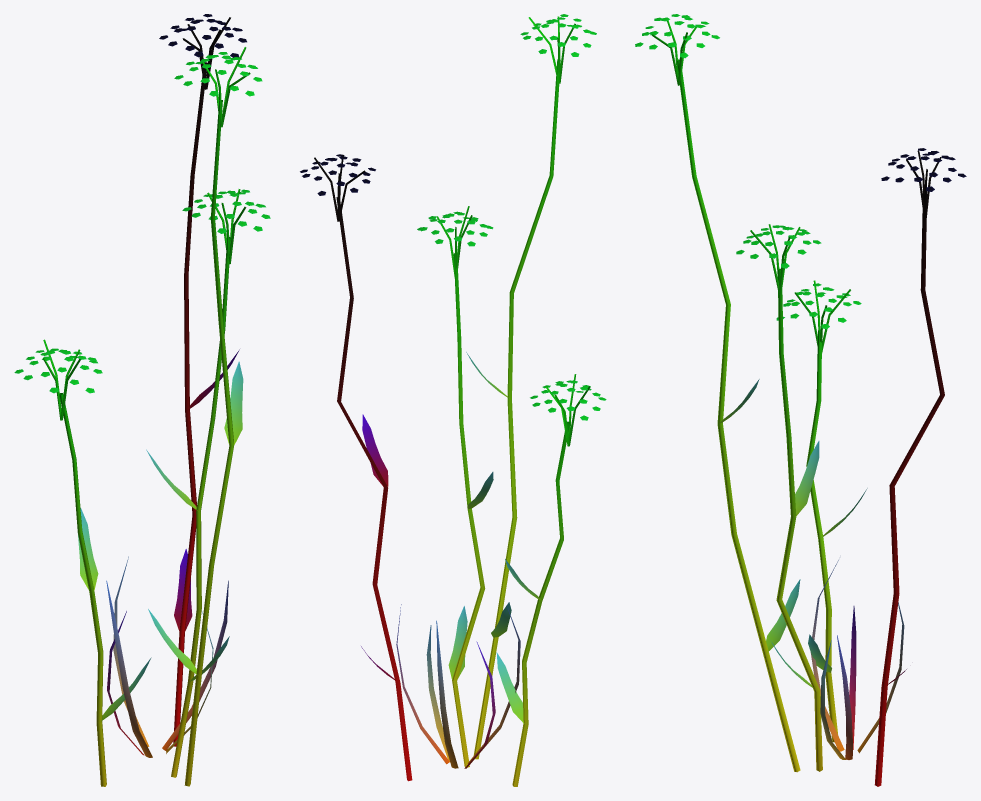
Rendered from SM_Flower_Yarrow_B_LOD1.fbx.
3 views of the same model, side by side, from view 1: azimuth 30°, elevation 25°; view 2: azimuth 150°, elevation 25°; view 3: azimuth 270°, elevation 25° (orthographic). The views are drawn at different scales.
Visible parts, largest first — view 1: SM_Flower_Yarrow_B_LOD1; view 2: SM_Flower_Yarrow_B_LOD1; view 3: SM_Flower_Yarrow_B_LOD1.
Boxes of the visible parts, x1,y1,x2,y2 form: SM_Flower_Yarrow_B_LOD1: [14, 14, 270, 786]; SM_Flower_Yarrow_B_LOD1: [300, 14, 606, 786]; SM_Flower_Yarrow_B_LOD1: [635, 14, 966, 786].
Size of the model in its own units: 0.22 by 0.5962 by 0.2423.
